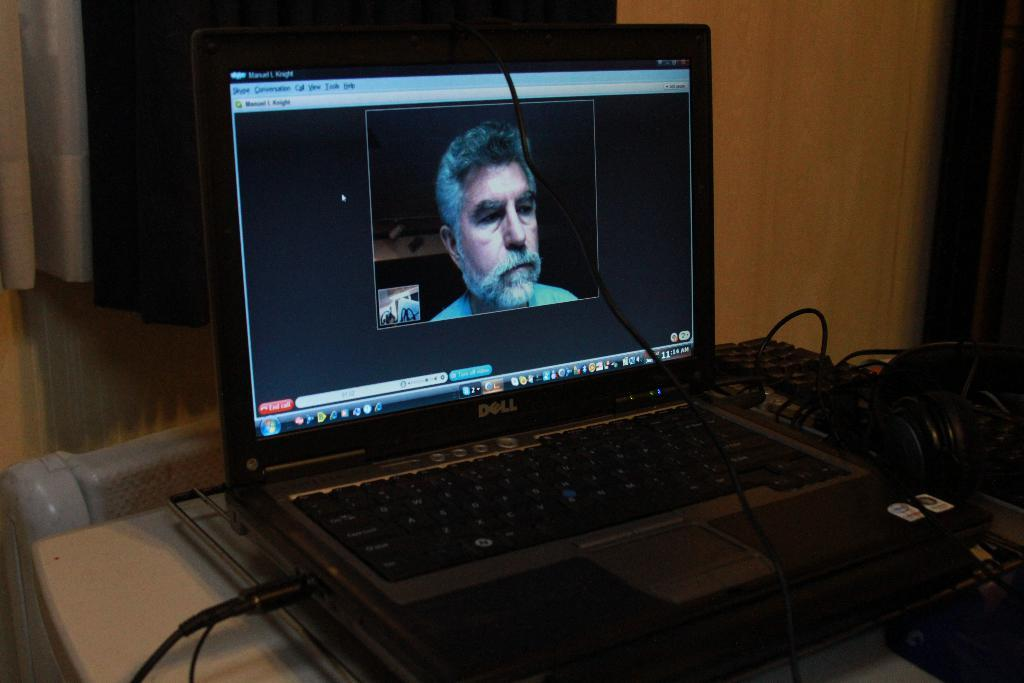Computer-keyboard: (290, 397, 856, 588), (716, 333, 1023, 508)
